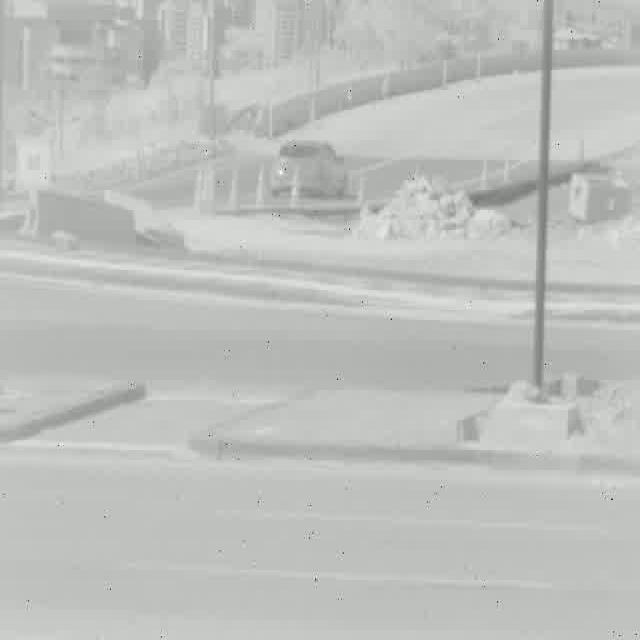Car: (271, 139, 345, 197)
